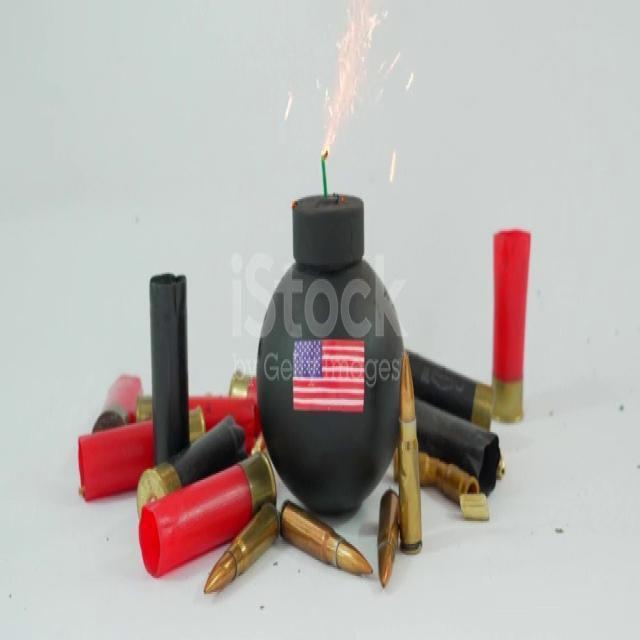grenade: (260, 169, 406, 523)
